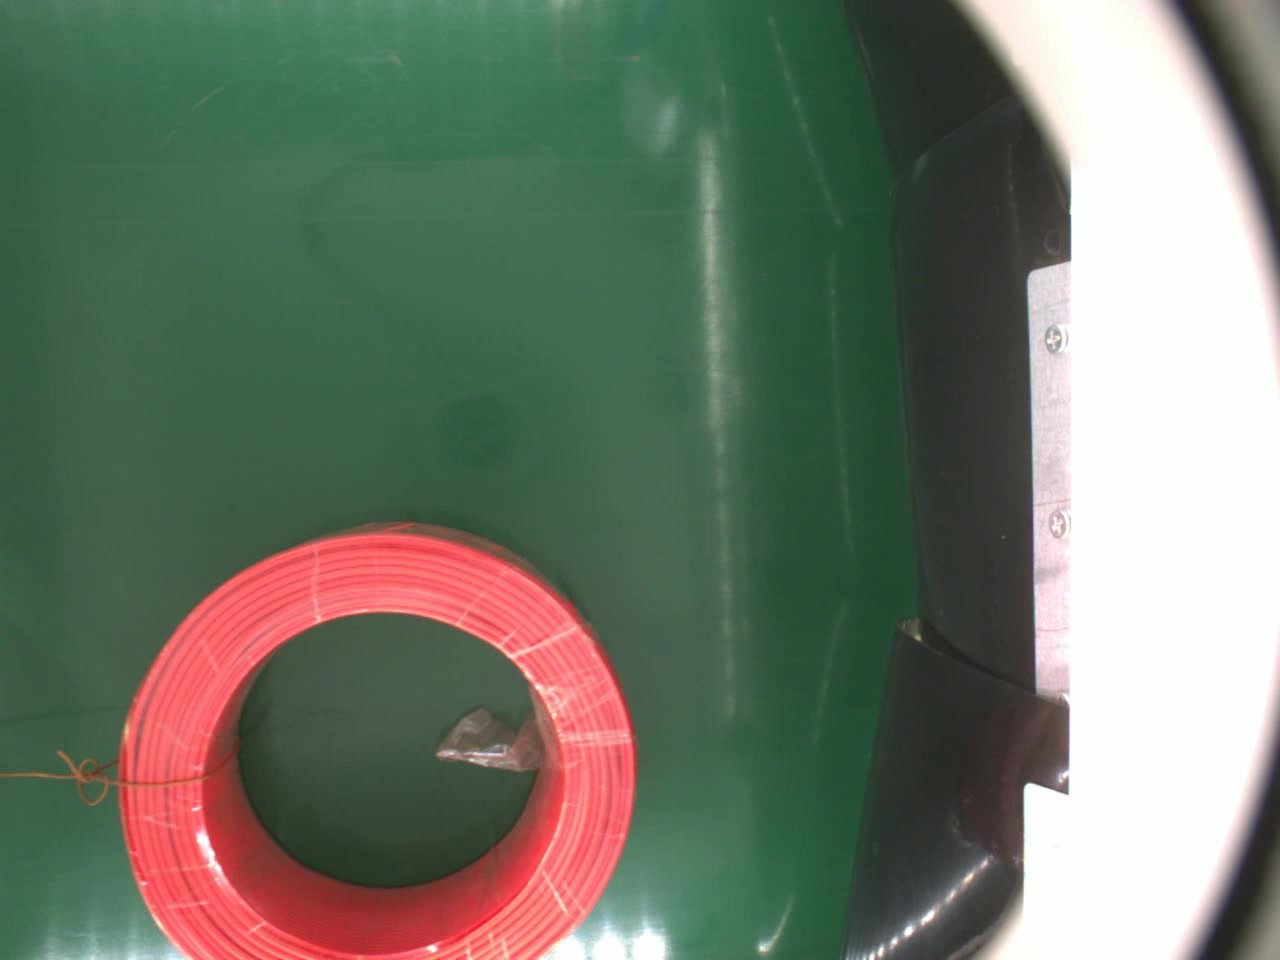red: (119, 516, 643, 960)
